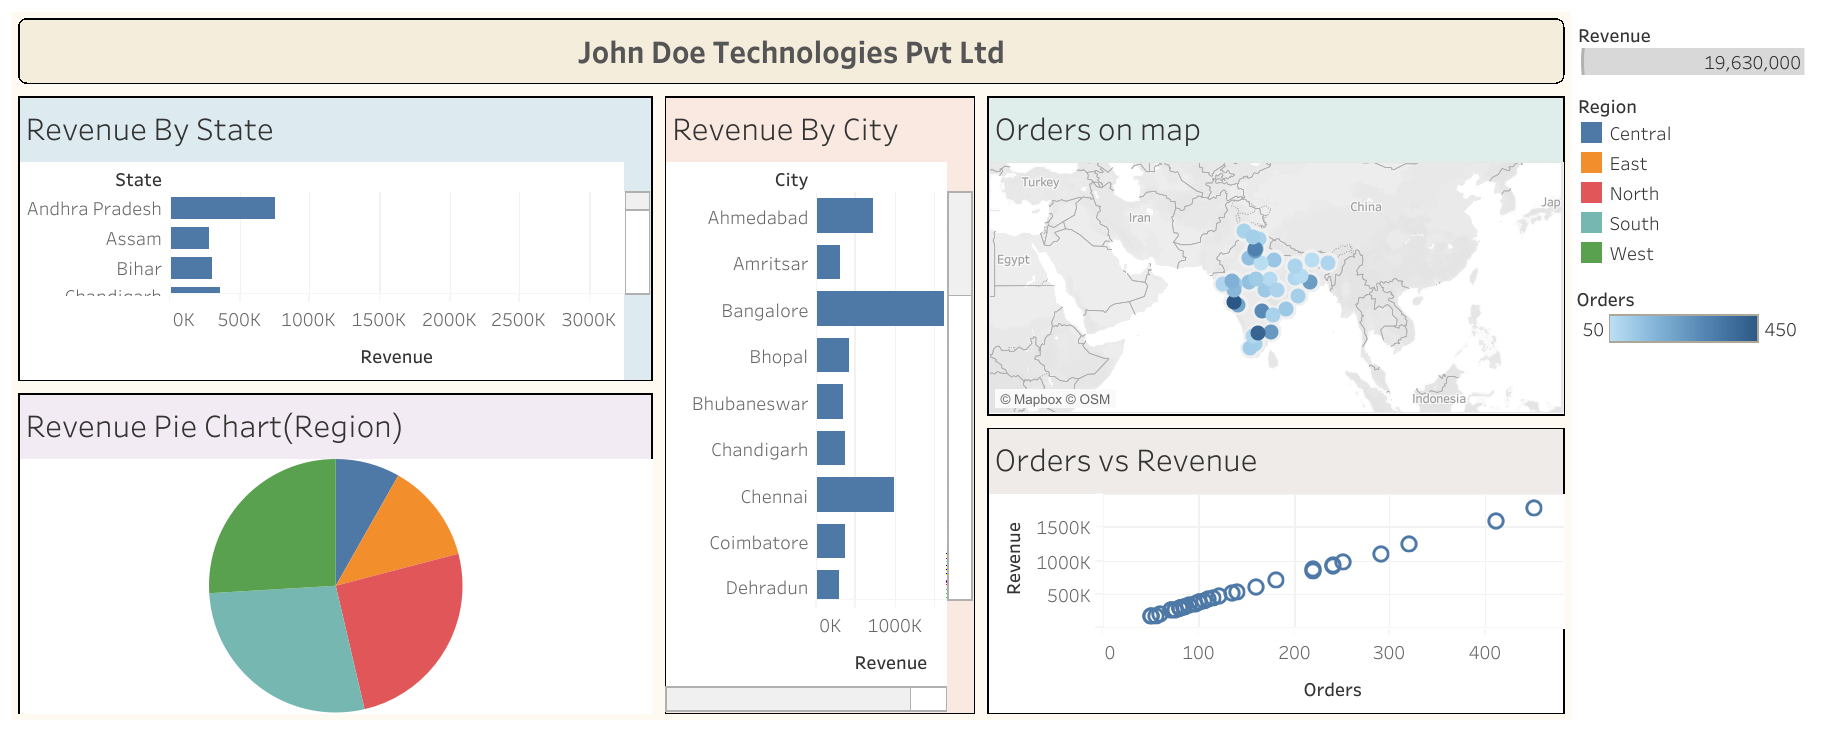

The dashboard page shown, as its layout file describes it:
{"tool":"tableau","page":{"name":"Summary","canvas":[1000,1000],"units":"permille","ordinal":0},"visuals":[{"type":"text","box":[4.8,9.9,894.2,64.5]},{"type":"legend","title":"Revenue Pie Chart(Region)","param":"[federated.0ubqnaa1e22u2517k60hz1xd96z1].[sum:Revenue:qk]","box":[899,9.9,96.2,73.2]},{"type":"worksheet","title":"Revenue By State","mark":"Automatic","rows":["State"],"cols":["Revenue"],"box":[4.8,74.5,259,450.4]},{"type":"worksheet","title":"Revenue By City","mark":"Automatic","rows":["City"],"cols":["Revenue"],"box":[263.8,74.5,325.7,915.6]},{"type":"worksheet","title":"Orders on map","mark":"Automatic","box":[589.5,74.5,309.5,459.1]},{"type":"legend","title":"Revenue Pie Chart(Region)","param":"[federated.0ubqnaa1e22u2517k60hz1xd96z1].[none:Region:nk]","box":[899,83.1,96.2,197.3]},{"type":"legend","title":"Orders on map","param":"[federated.0ubqnaa1e22u2517k60hz1xd96z1].[sum:Orders:qk]","box":[899,280.4,96.2,100.5]},{"type":"worksheet","title":"Revenue Pie Chart(Region)","mark":"Pie","box":[4.8,524.8,259,465.2]},{"type":"worksheet","title":"Orders vs Revenue","mark":"Automatic","rows":["Revenue"],"cols":["Orders"],"box":[589.5,533.5,309.5,456.6]}]}

Visuals, with their boxes on the dashboard's canvas, which has no fixed pixel size, in thousandths of its width and height (x1, y1, x2, y2). These are canvas units, not pixel positions in the 1821x731 screenshot, which may show the page scaled, cropped or inside an application window:
text: bbox(5, 10, 899, 74)
"Revenue Pie Chart(Region)" legend: bbox(899, 10, 995, 83)
"Revenue By State" worksheet: bbox(5, 74, 264, 525)
"Revenue By City" worksheet: bbox(264, 74, 590, 990)
"Orders on map" worksheet: bbox(590, 74, 899, 534)
"Revenue Pie Chart(Region)" legend: bbox(899, 83, 995, 280)
"Orders on map" legend: bbox(899, 280, 995, 381)
"Revenue Pie Chart(Region)" worksheet (Pie marks): bbox(5, 525, 264, 990)
"Orders vs Revenue" worksheet: bbox(590, 534, 899, 990)
